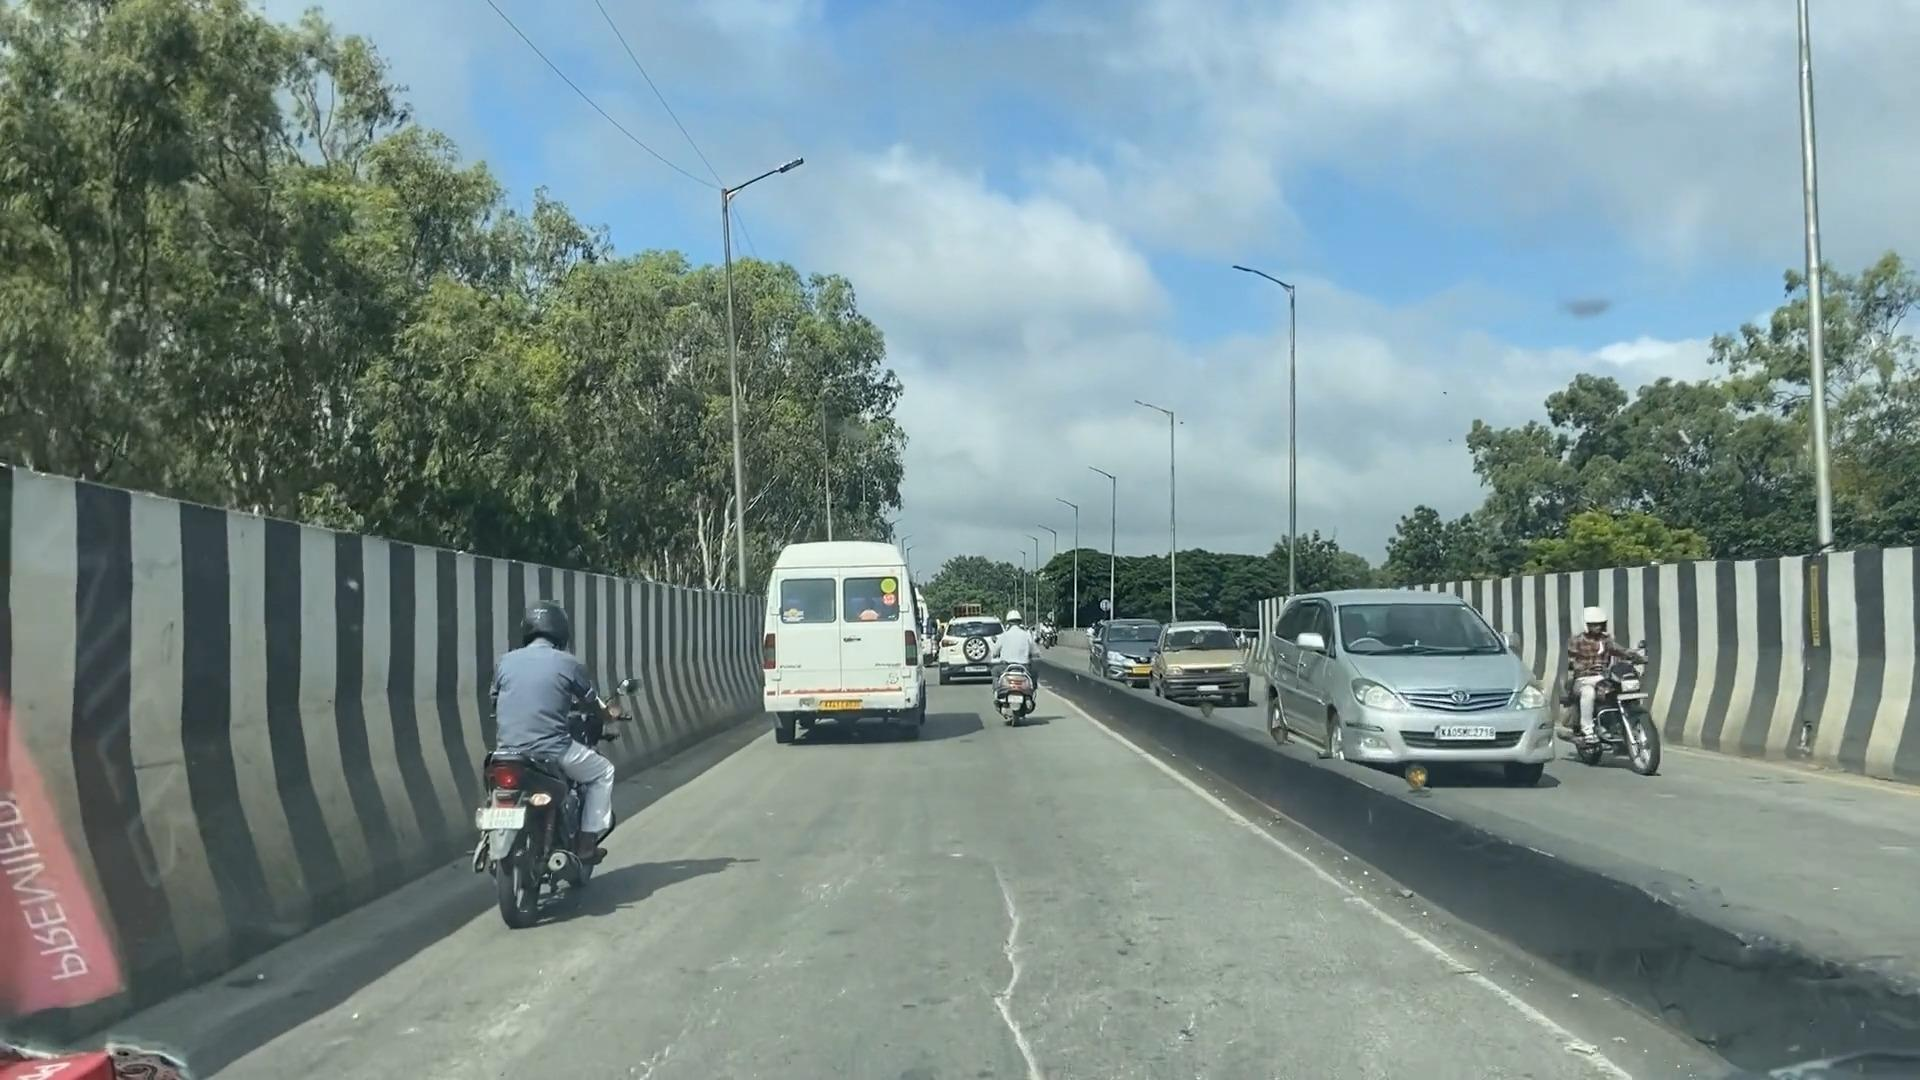HMV: (758, 543, 931, 760)
LMV: (485, 604, 613, 909), (1001, 613, 1047, 741)
RoadDamages: (980, 841, 1031, 1079)
UnsurfacedRoad: (369, 940, 847, 1069)
